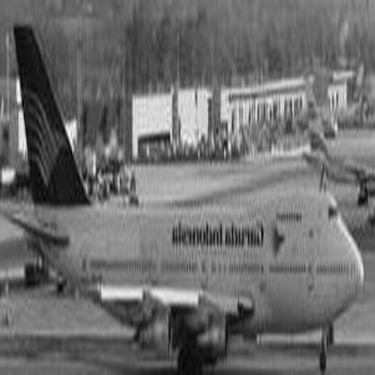airplane: (1, 15, 370, 371), (282, 64, 371, 206)
